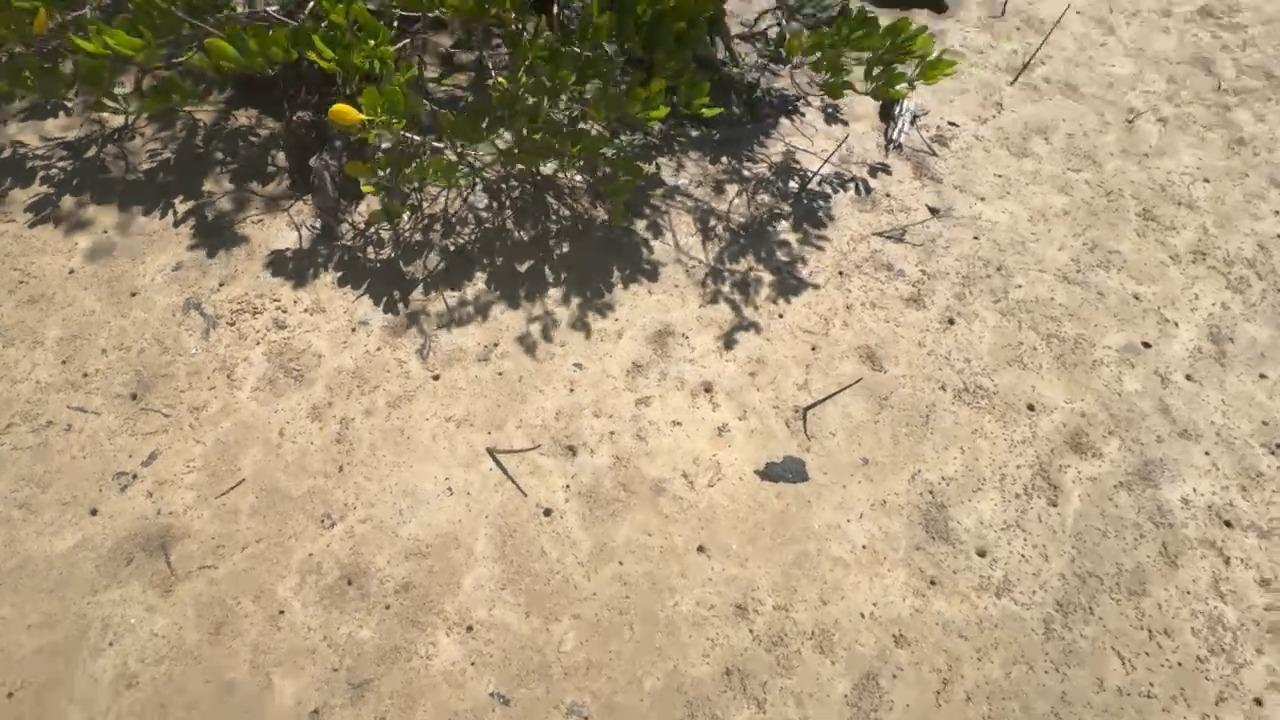Tree: (1014, 4, 1071, 83), (805, 379, 865, 412), (488, 444, 542, 454), (999, 0, 1010, 15)
